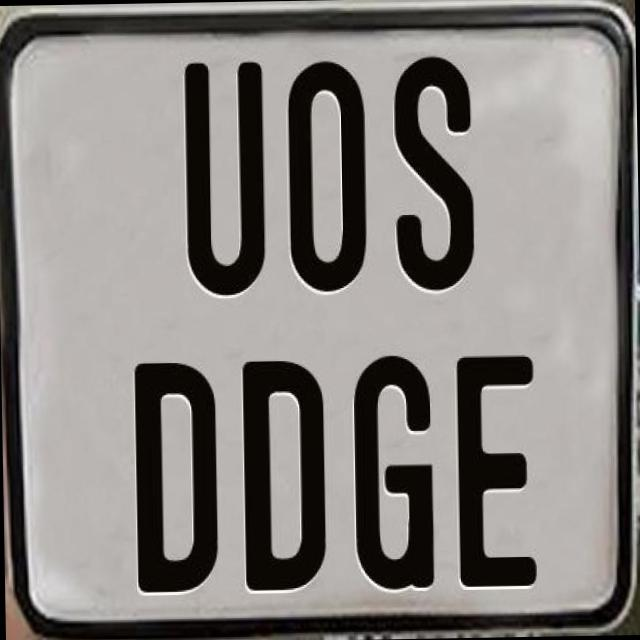0: (285, 60, 373, 300)
D: (241, 360, 328, 596), (131, 358, 215, 596)
E: (455, 350, 538, 591)
G: (351, 354, 439, 598)
S: (389, 50, 477, 288)
U: (182, 62, 269, 304)
